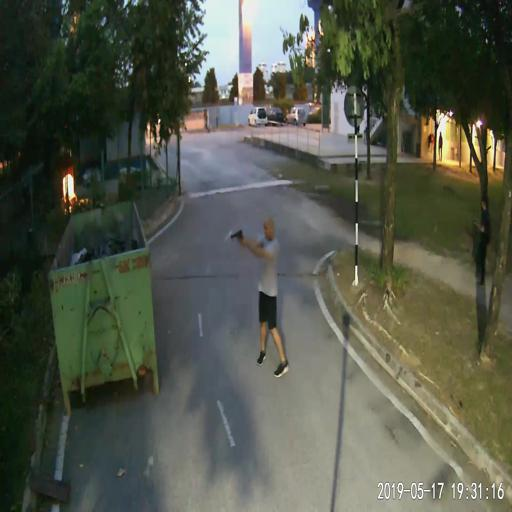pistol: (230, 228, 244, 244)
